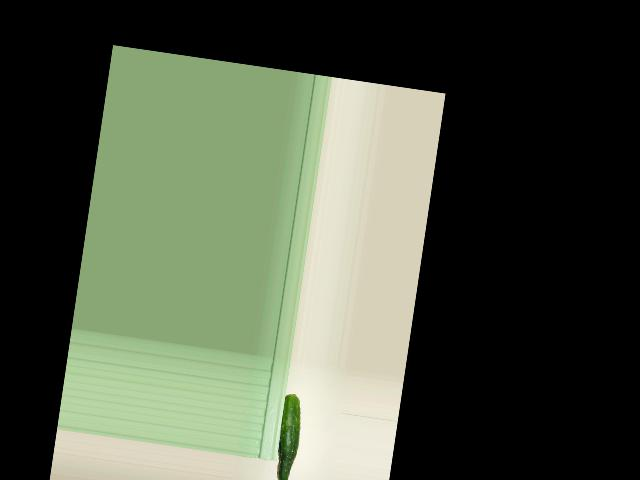cucumber: (271, 393, 310, 480)
